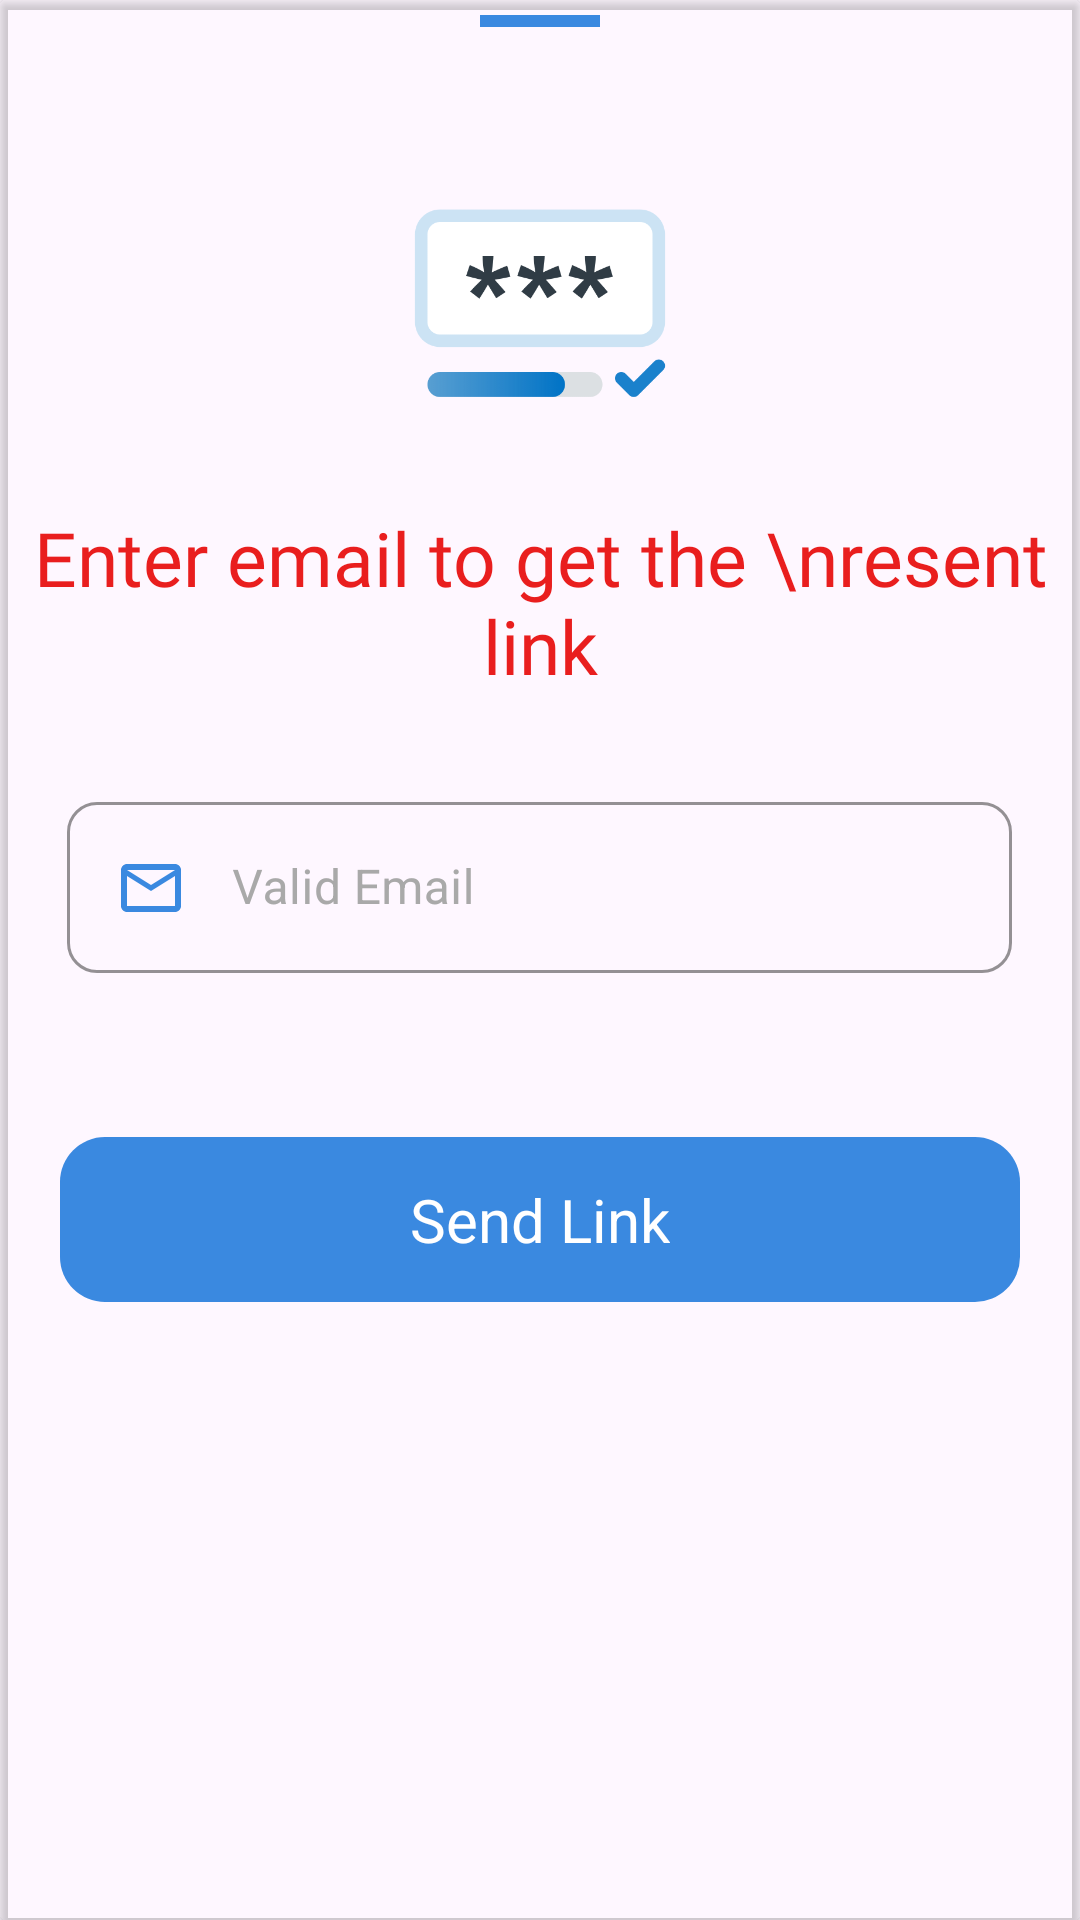

Screen size 1080px×1920px. Icon name, then its box in pixels as (x1, y1, x2, y2):
security: (415, 210, 665, 397)
